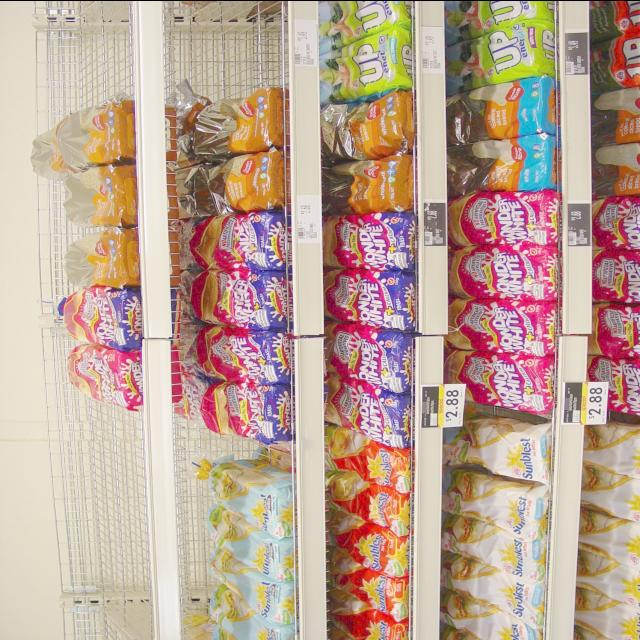empty_space: (61, 419, 139, 630), (54, 0, 128, 97), (198, 0, 278, 88), (205, 444, 291, 456)
